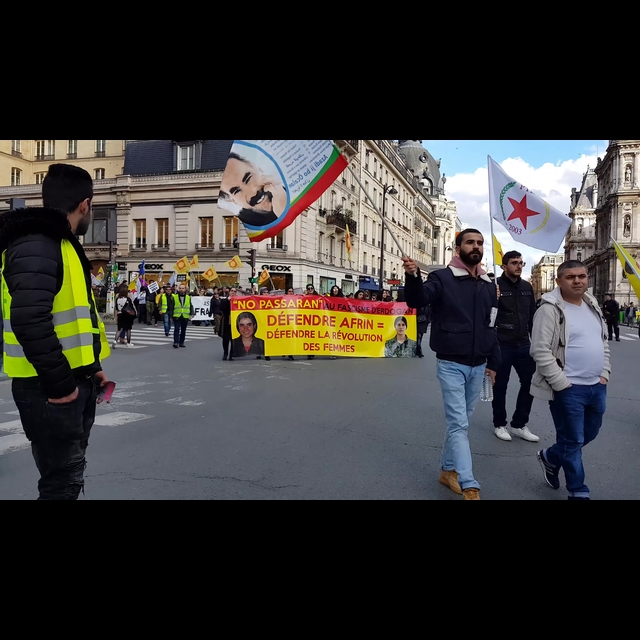PYD: (497, 175, 556, 243)
